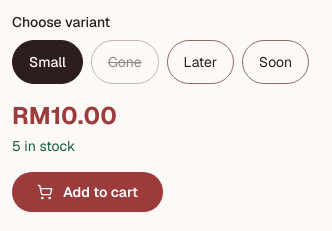
Test: VariantPicker behaviour › a normal out-of-stock variant is disabled; back-order and pre-order stay selectable with a label
Expected: the button "Gone" is disabled, [91,40,159,84]
Expected: the button "Soon" is enabled, [242,40,309,84]
Click the button "Later": (200, 62) [167,40,234,84]
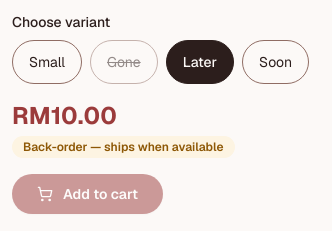
Expected: the text "Back-order — ships when available" is shown, [12,136,234,158]
Click the button "Soon": (276, 62) [242,40,309,84]
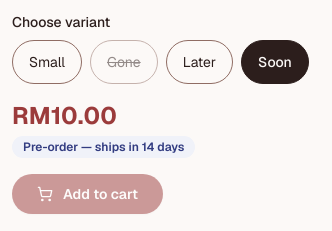
Expected: the text "Pre-order — ships in 14 days" is shown, [12,136,195,158]
